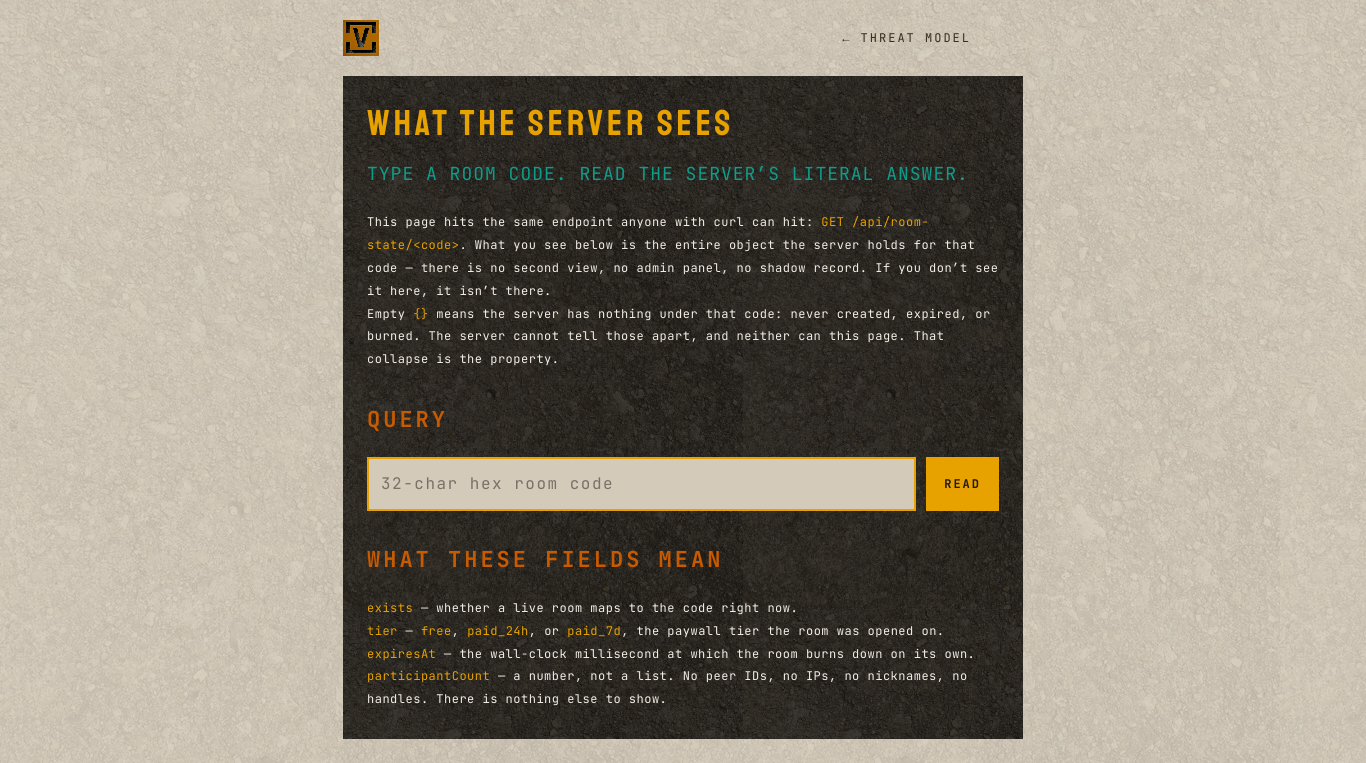
Test case: ServerStateProofPage › renders an empty {} snapshot for a non-live room without erroring
Type "0123456789abcdef0123456789abcdef" into the field with test id "server-state-input" at (642, 484), box [367, 457, 916, 511]
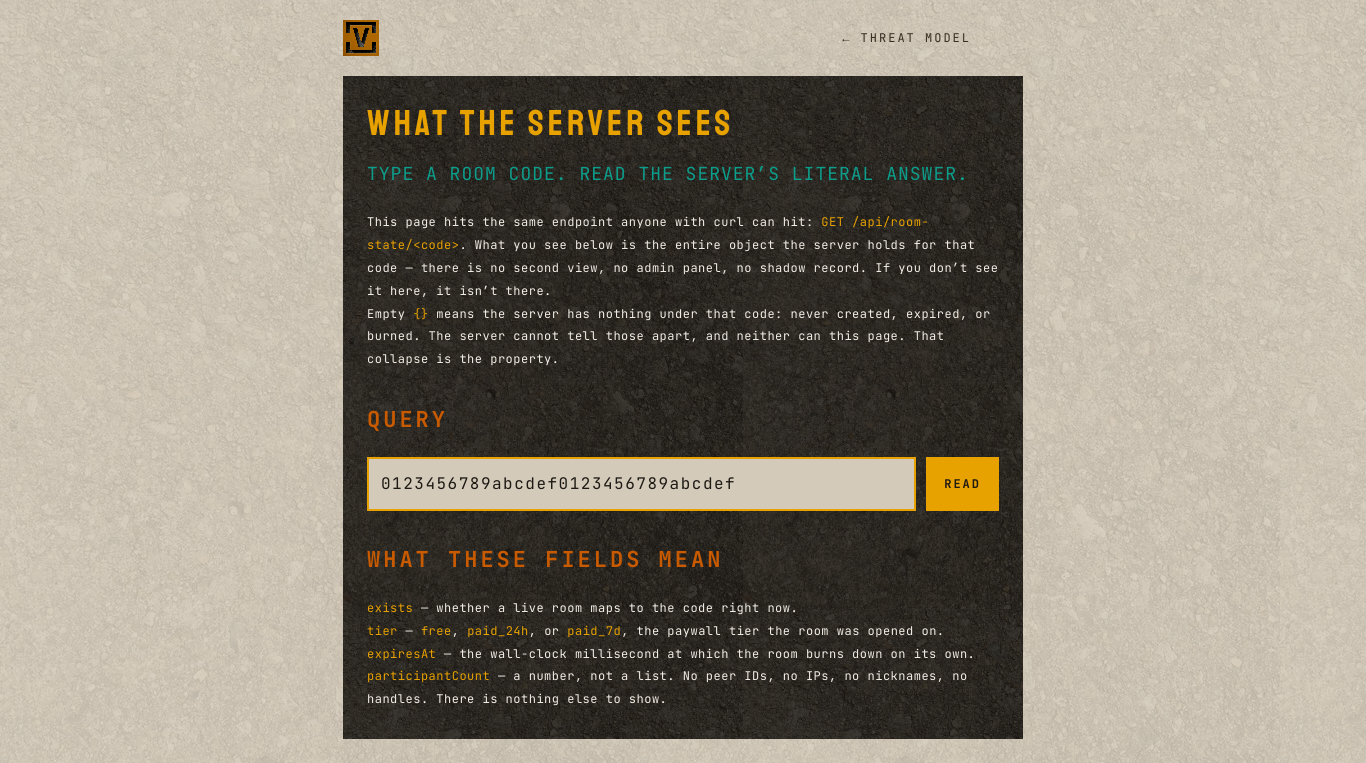
Click the button with test id "server-state-submit" at (963, 484), box [926, 457, 999, 511]
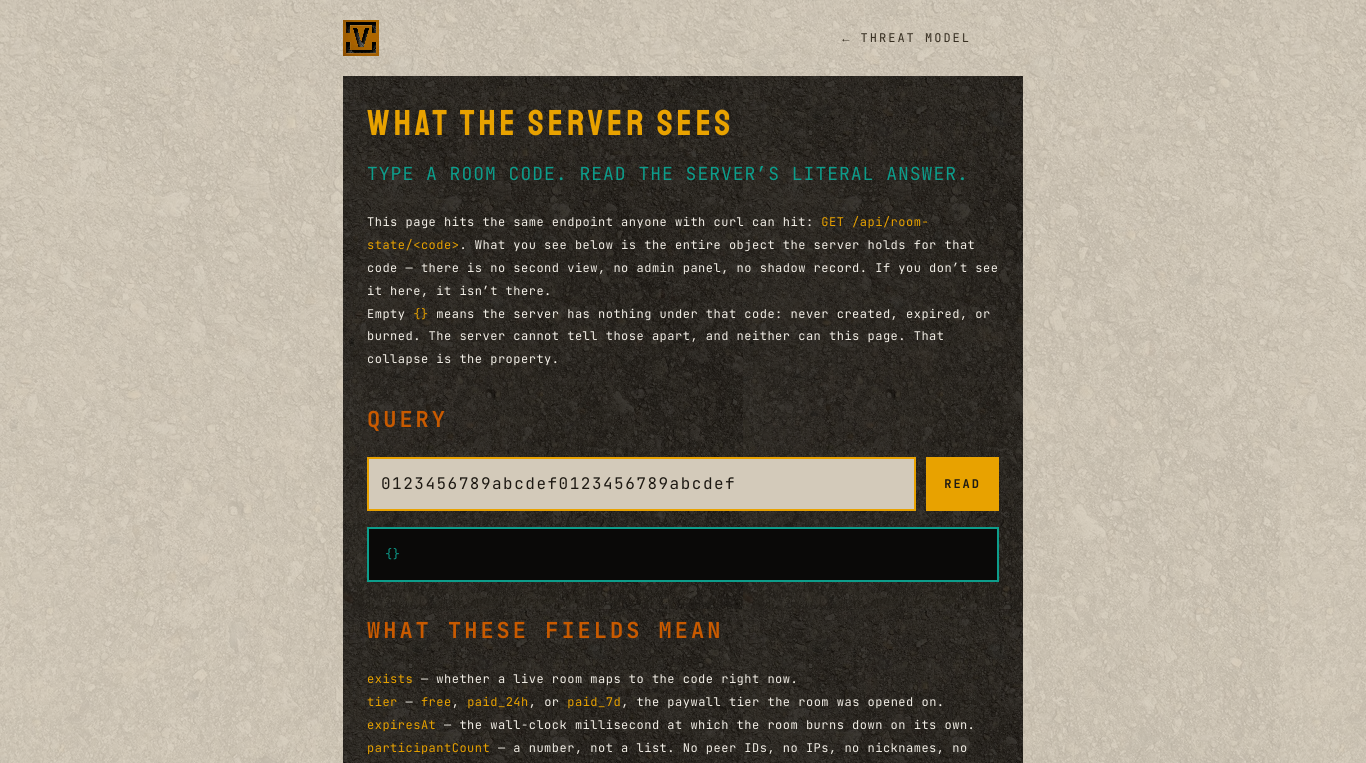
Check: the text with test id "server-state-json" is shown, box [367, 527, 999, 582]
Check: the text with test id "server-state-json" reads "{}", box [385, 546, 400, 562]
